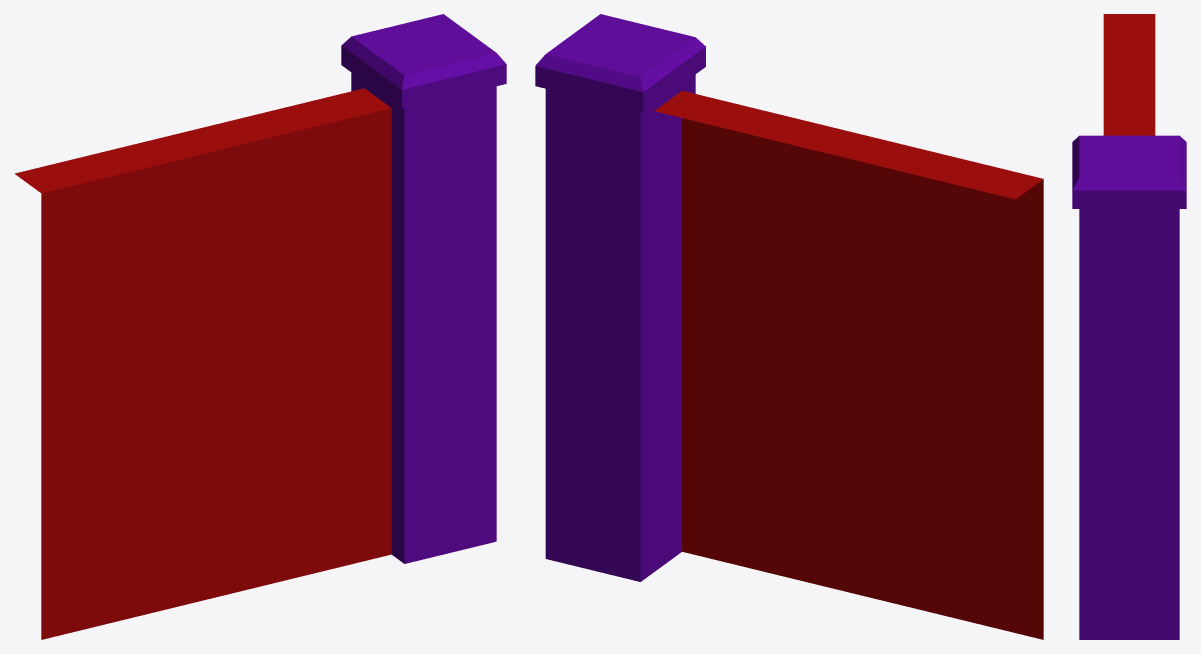
File: SM_modularWalls.fbx
3 renders of one model, left to right at view 1: azimuth 30°, elevation 25°; view 2: azimuth 150°, elevation 25°; view 3: azimuth 270°, elevation 25°, orthographic. The views are drawn at different scales.
Visible parts, largest first — view 1: modularWall; view 2: modularWall; view 3: modularWall.
Part boxes in pixels (bbox=[...]): modularWall: bbox=[15, 14, 506, 639]; modularWall: bbox=[535, 14, 1043, 639]; modularWall: bbox=[1072, 14, 1186, 639].
Bounding box in the file's own units: 2.26 × 2.36 × 0.5289.
